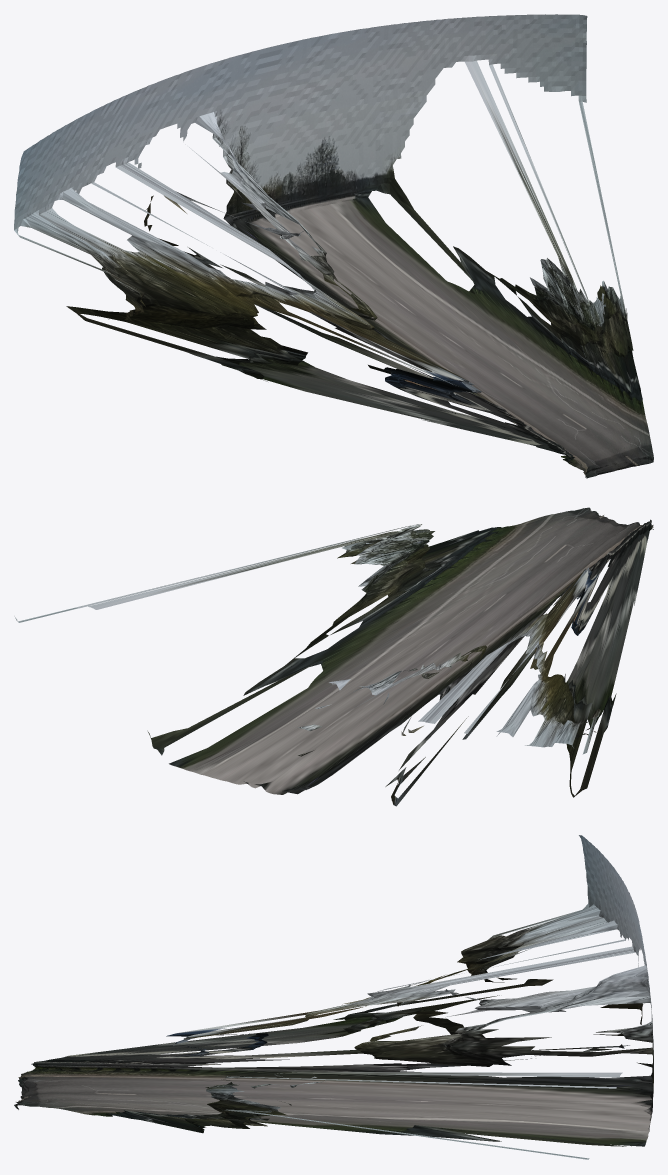
The picture shows the model from 3 angles, top to bottom: view 1: azimuth 30°, elevation 25°; view 2: azimuth 150°, elevation 25°; view 3: azimuth 270°, elevation 25°; orthographic projection. The views are drawn at different scales.
Visible parts, largest first — view 1: defaultobject; view 2: defaultobject; view 3: defaultobject.
Boxes of the visible parts, <box> form: defaultobject: <box>14,14,653,478</box>; defaultobject: <box>14,507,653,806</box>; defaultobject: <box>14,835,653,1159</box>.
Size of the model in its own units: 41.05 by 12.25 by 44.66.
1 material, 1 textured.
